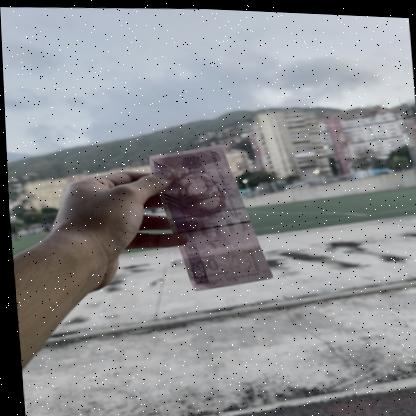one_hundred-back-vef: (146, 137, 272, 295)
